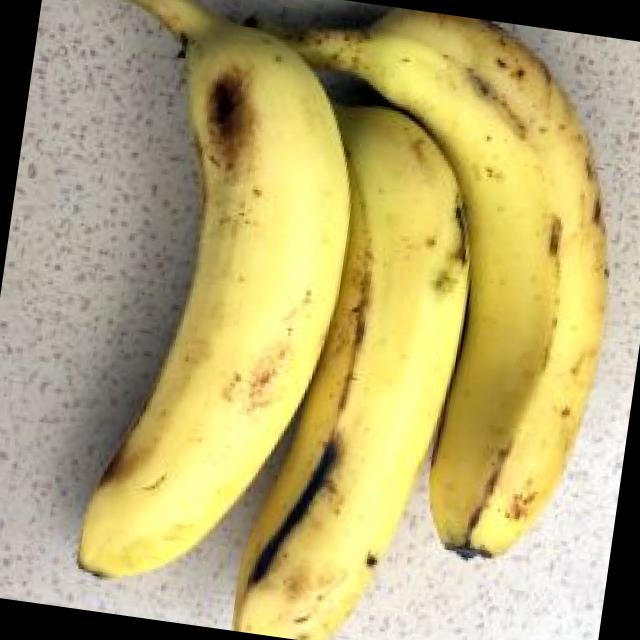banana: (57, 74, 609, 640)
